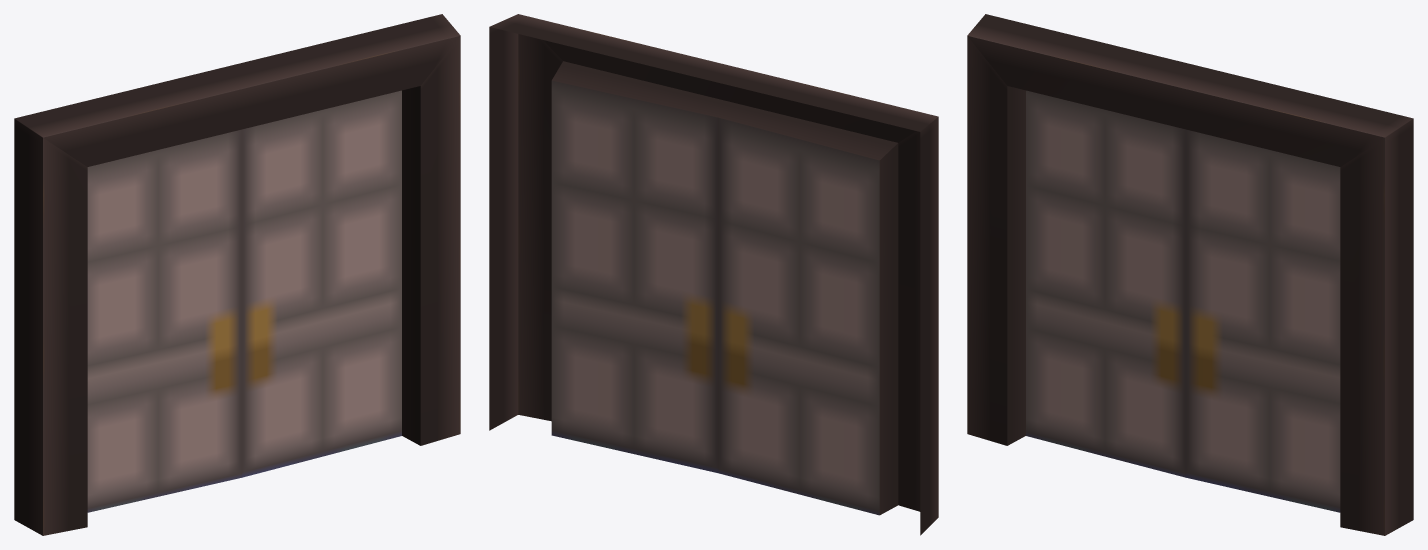
The model's file is door_double_v3b_001.fbx.
The picture shows the model from 3 angles, left to right: view 1: azimuth 30°, elevation 25°; view 2: azimuth 150°, elevation 25°; view 3: azimuth 330°, elevation 25°; orthographic projection.
Visible parts, largest first — view 1: door_double_v3b_001; view 2: door_double_v3b_001; view 3: door_double_v3b_001.
Part boxes in pixels (x1,y1,x2,y2): door_double_v3b_001: (14, 14, 460, 535); door_double_v3b_001: (489, 14, 938, 535); door_double_v3b_001: (967, 14, 1413, 535).
Bounding box in the file's own units: 200 × 179 × 20.9.
